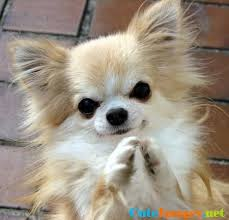chihuahua: (22, 1, 206, 209)
